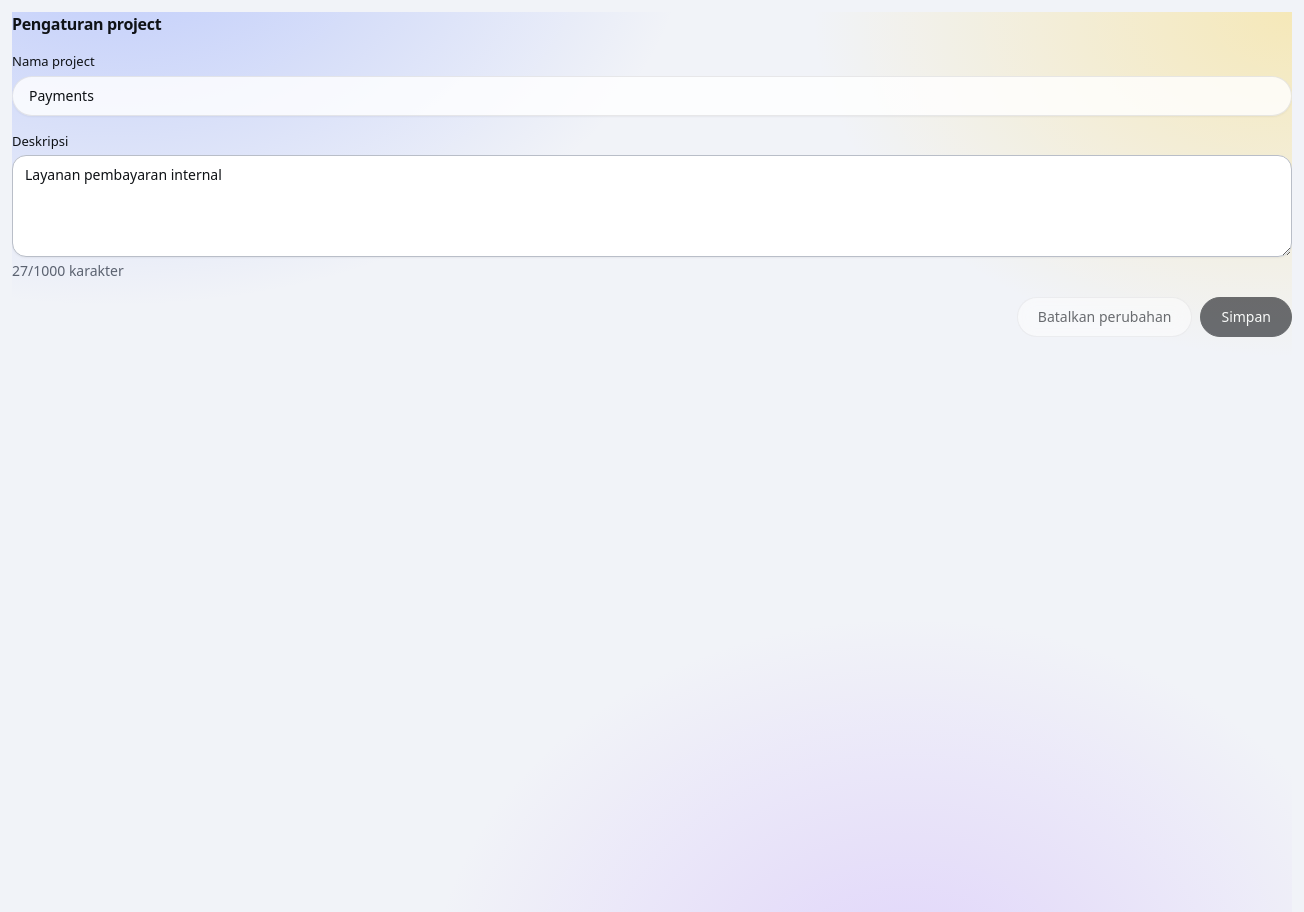
ProjectSettingsView › 500 keeps input and shows formError
This screenshot has width=1304, height=912.
Type " v2" into the field labelled "Nama project".
click(652, 96); type(" v2")  # box 12,76 -> 1292,116
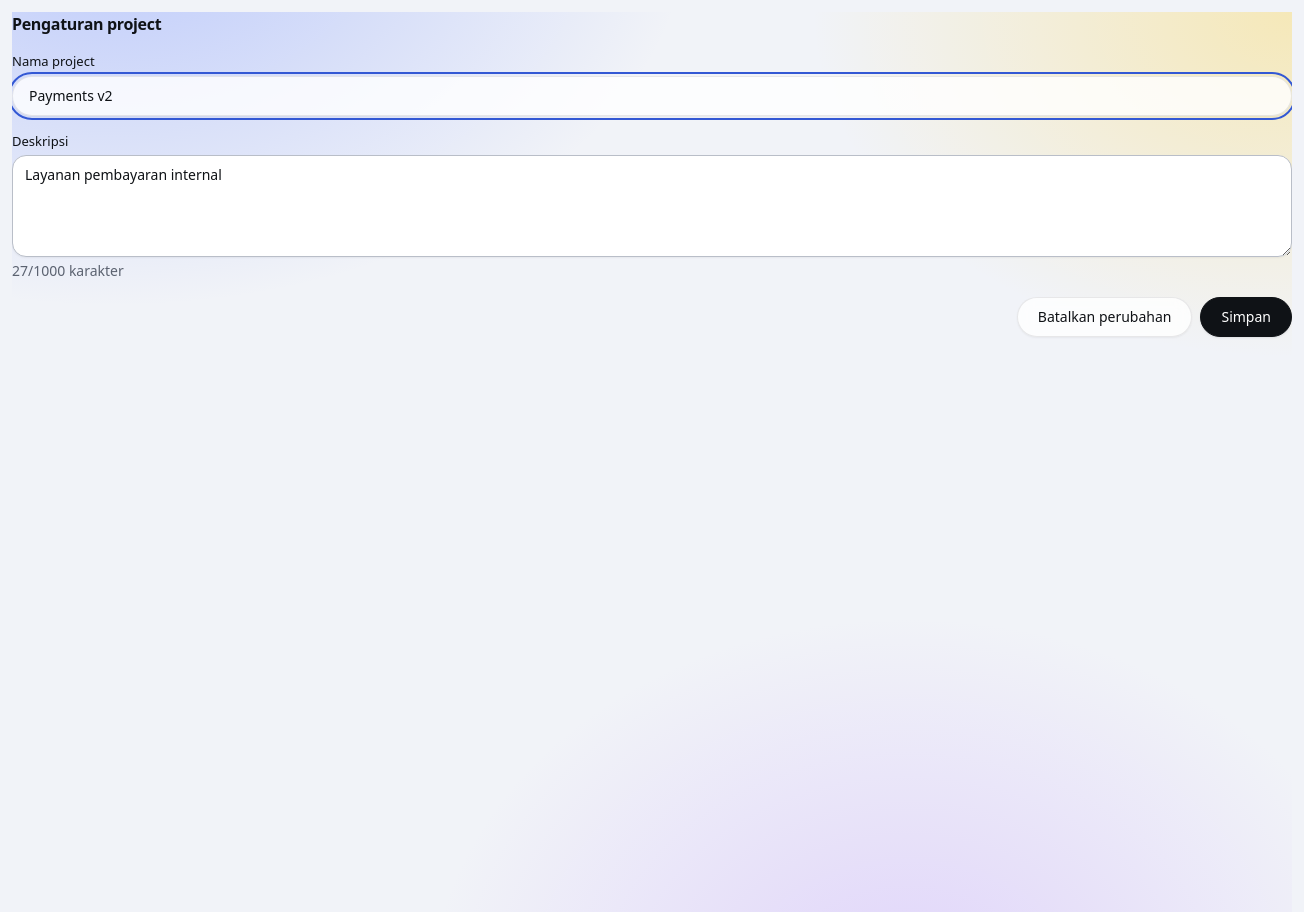
Click the button "Simpan".
click(1246, 317)  # box 1200,297 -> 1292,337
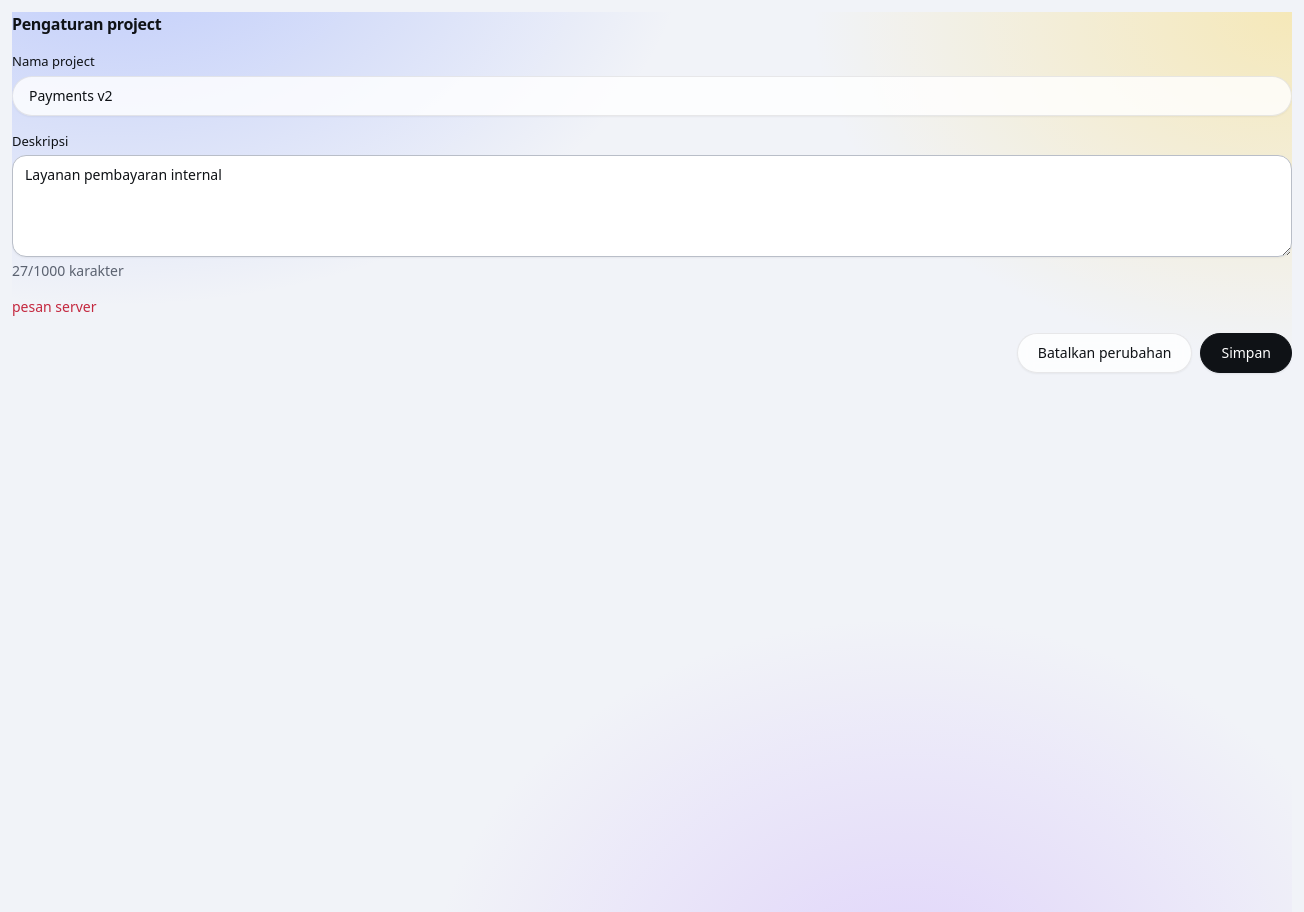
Expected: the field labelled "Nama project" holds "Payments v2", 12,76 -> 1292,116
Expected: the message reads "pesan server", 12,297 -> 96,316
